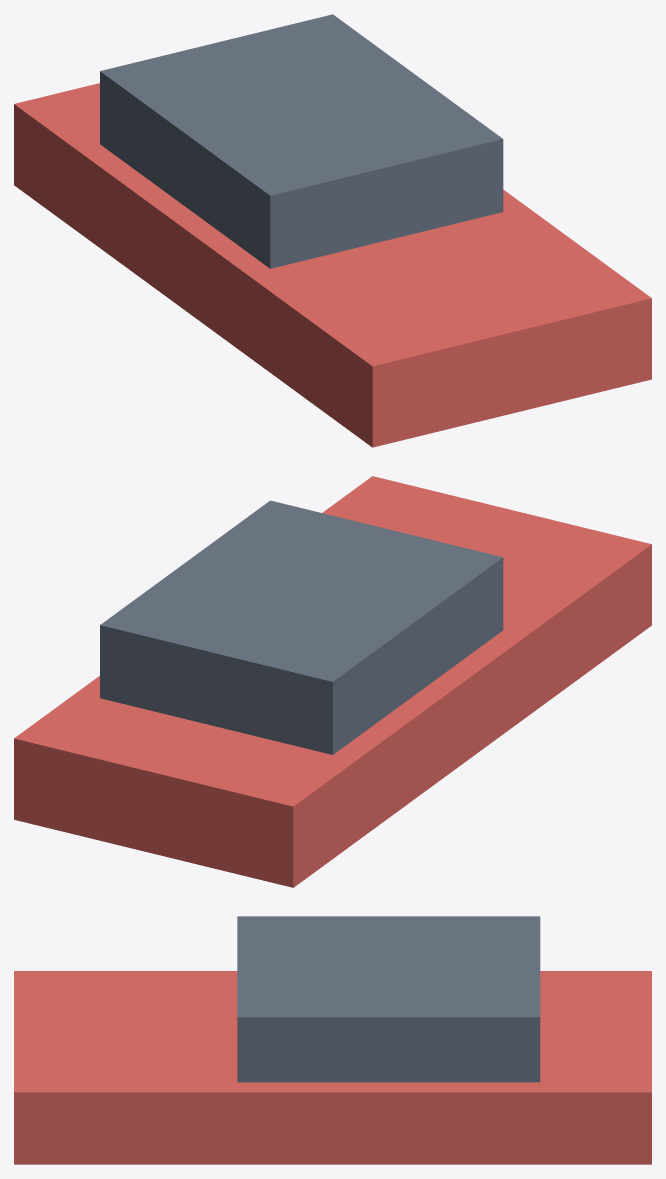
The model's file is car.glb.
3 renders of one model, top to bottom at view 1: azimuth 30°, elevation 25°; view 2: azimuth 150°, elevation 25°; view 3: azimuth 270°, elevation 25°, orthographic. The views are drawn at different scales.
Parts seen in each view (by area): view 1: car; view 2: car; view 3: car.
Boxes of the visible parts, <box> form: car: <box>14,14,651,447</box>; car: <box>14,476,651,887</box>; car: <box>14,916,651,1164</box>.
Bounding box in the file's own units: 1.8 × 0.95 × 4.
